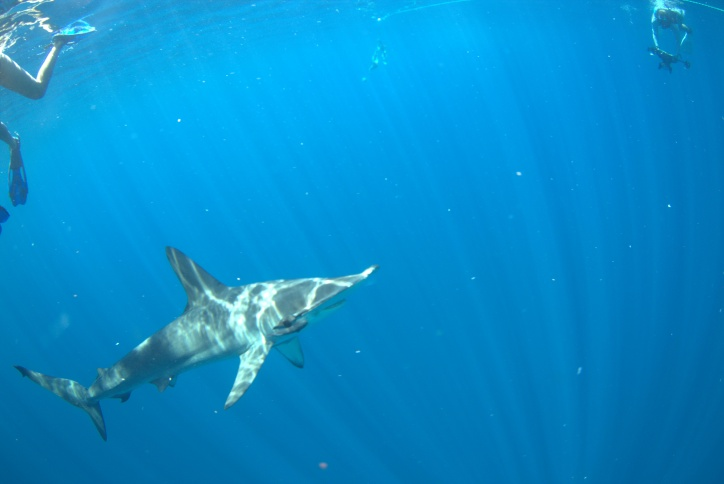Hammer: (1, 235, 441, 454)
